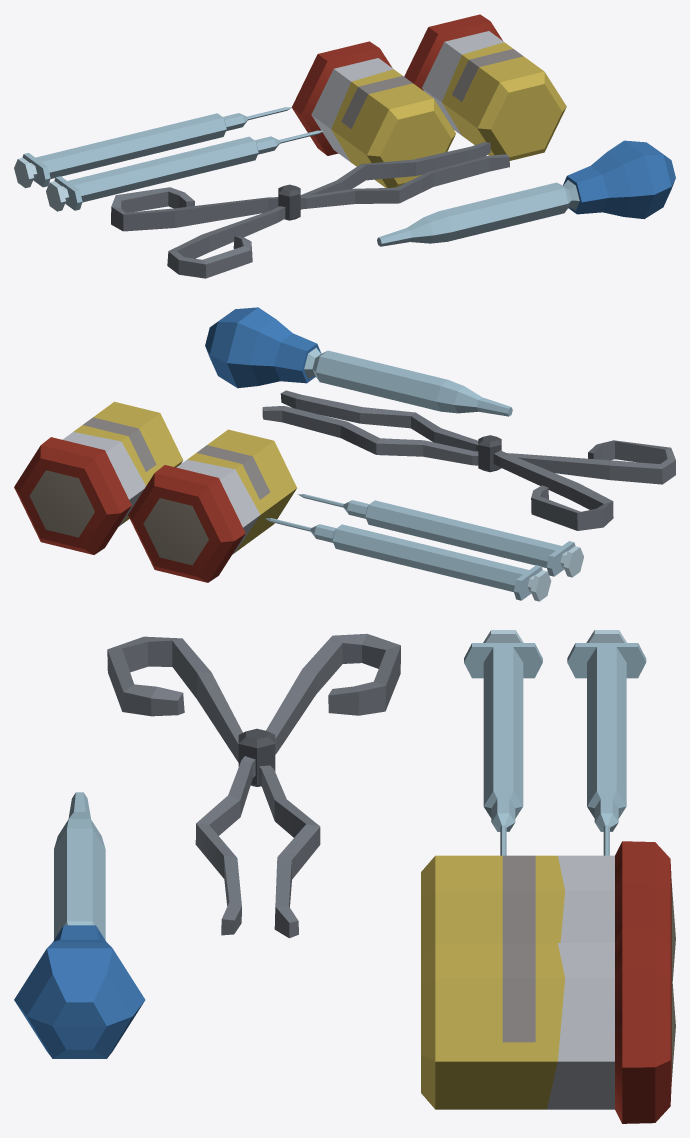
The model's file is SM_Prop_Forensics_Case_01_Insert_01.fbx.
The picture shows the model from 3 angles, top to bottom: view 1: azimuth 30°, elevation 25°; view 2: azimuth 150°, elevation 25°; view 3: azimuth 270°, elevation 25°; orthographic projection. The views are drawn at different scales.
Parts seen in each view (by area): view 1: SM_Prop_Forensics_Case_01_Insert_01; view 2: SM_Prop_Forensics_Case_01_Insert_01; view 3: SM_Prop_Forensics_Case_01_Insert_01.
Part boxes in pixels (box(x1,y1,x2,y2)): SM_Prop_Forensics_Case_01_Insert_01: box(14, 14, 675, 278); SM_Prop_Forensics_Case_01_Insert_01: box(14, 307, 675, 601); SM_Prop_Forensics_Case_01_Insert_01: box(14, 630, 675, 1123).
Size of the model in its own units: 52.38 by 9.69 by 37.09.
